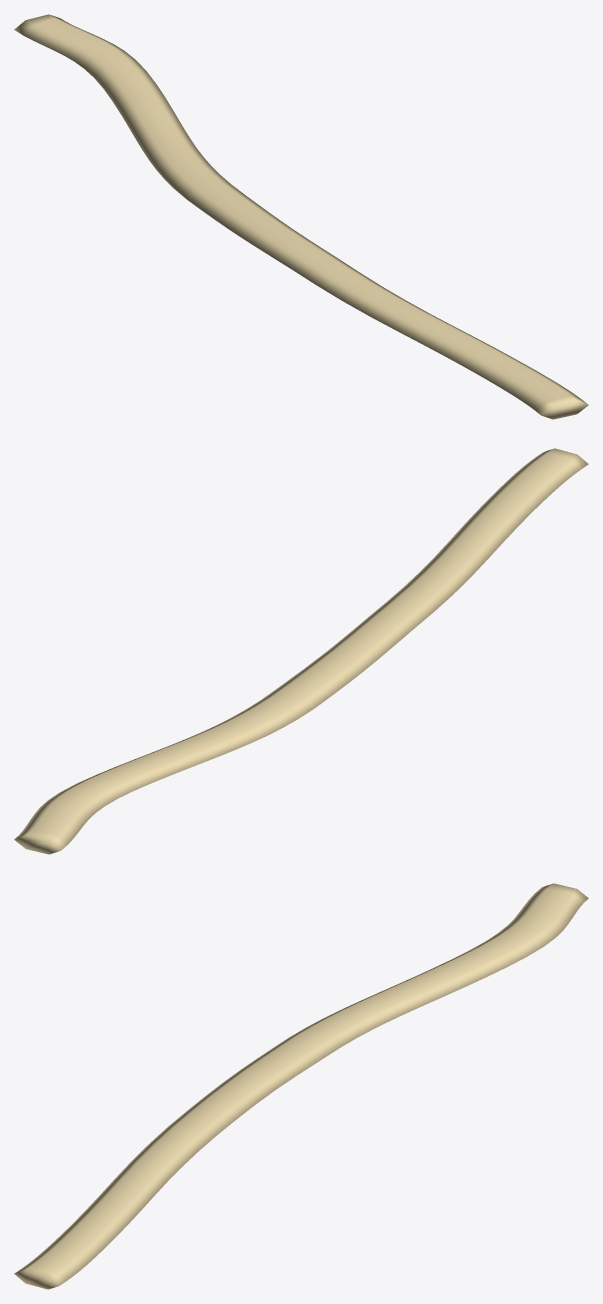
File: Liangpi3.fbx
3 renders of one model, top to bottom at view 1: azimuth 30°, elevation 25°; view 2: azimuth 150°, elevation 25°; view 3: azimuth 330°, elevation 25°, orthographic.
Visible parts, largest first — view 1: BezierCurve.006; view 2: BezierCurve.006; view 3: BezierCurve.006.
Part boxes in pixels (box(x1,y1,x2,y2)): BezierCurve.006: box(14, 14, 588, 419); BezierCurve.006: box(14, 448, 588, 854); BezierCurve.006: box(14, 883, 588, 1289).
Bounding box in the file's own units: 132 × 22.55 × 1175.
